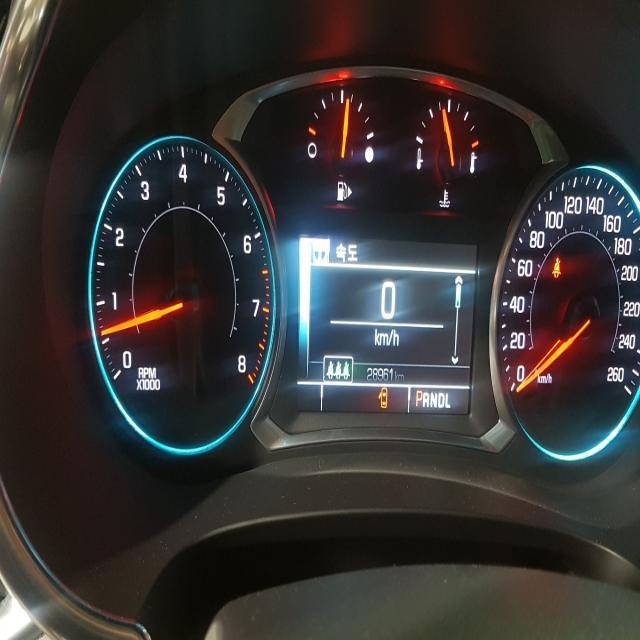Doors: (377, 386, 387, 408)
